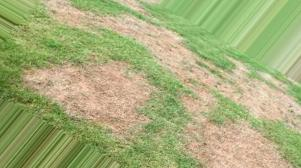patch: (57, 63, 146, 106), (197, 127, 271, 166), (227, 81, 288, 109), (126, 23, 177, 43), (158, 48, 199, 72), (51, 4, 77, 18)
